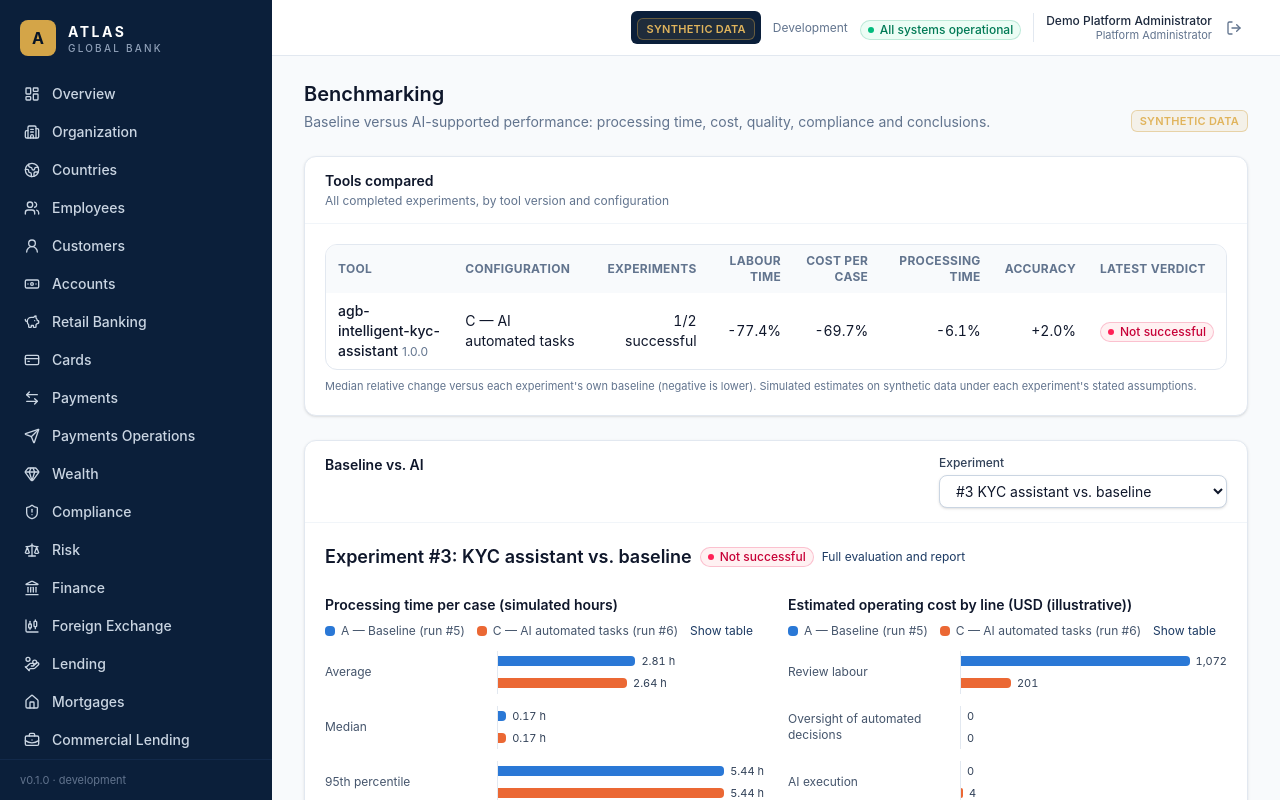
Test: Benchmarking › compares tools and charts baseline against AI with a table view
The image size is (1280, 800).
Expected: the text "1/2 successful" is shown, x1=594 y1=293 x2=709 y2=369
Expected: the text "-77.4%" is shown, x1=709 y1=293 x2=793 y2=369
Hover over the element named "Average, A — Baseline (run #5): 2.81 h": (587, 660) x1=498 y1=654 x2=675 y2=668
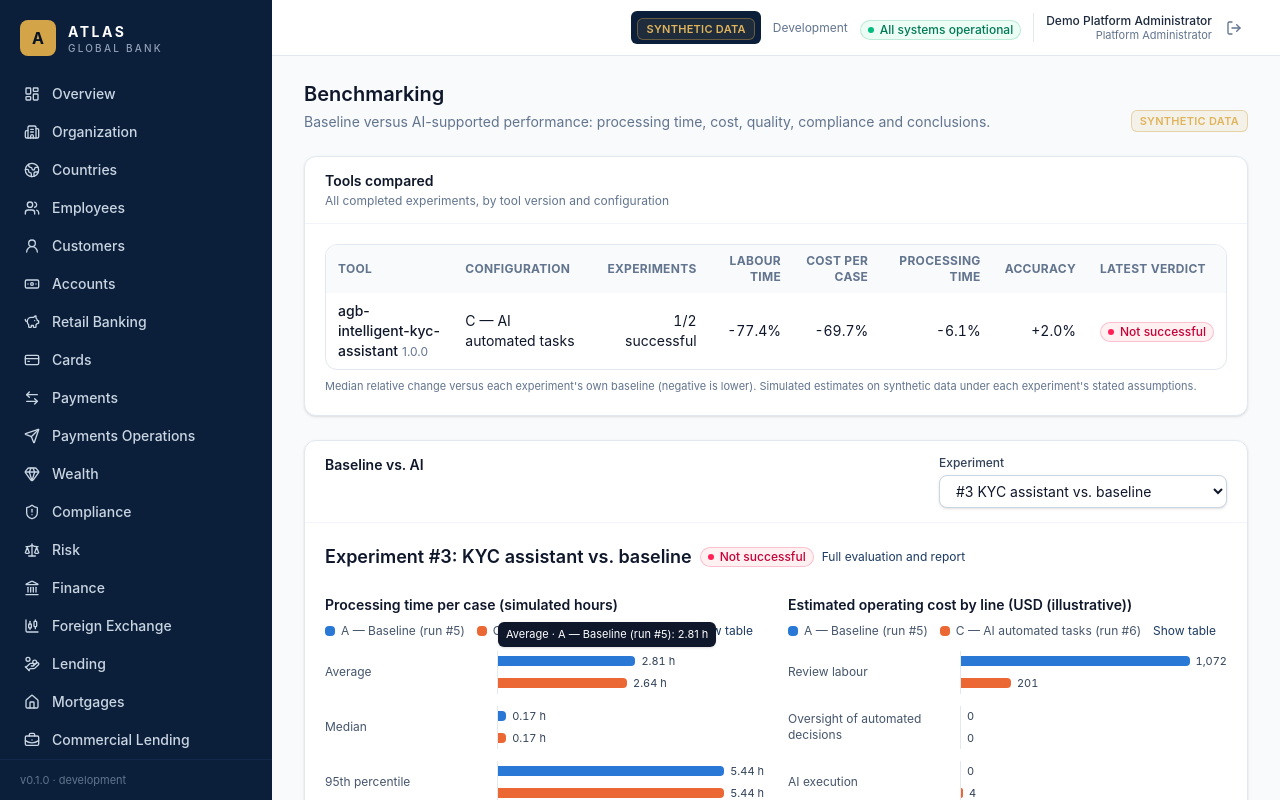
Now the tooltip reads "Average · A — Baseline (run #5): 2.81 h", box x1=498 y1=622 x2=716 y2=646
Click the 1st button "Show table": (722, 630) x1=690 y1=622 x2=753 y2=638
(page scrolled)
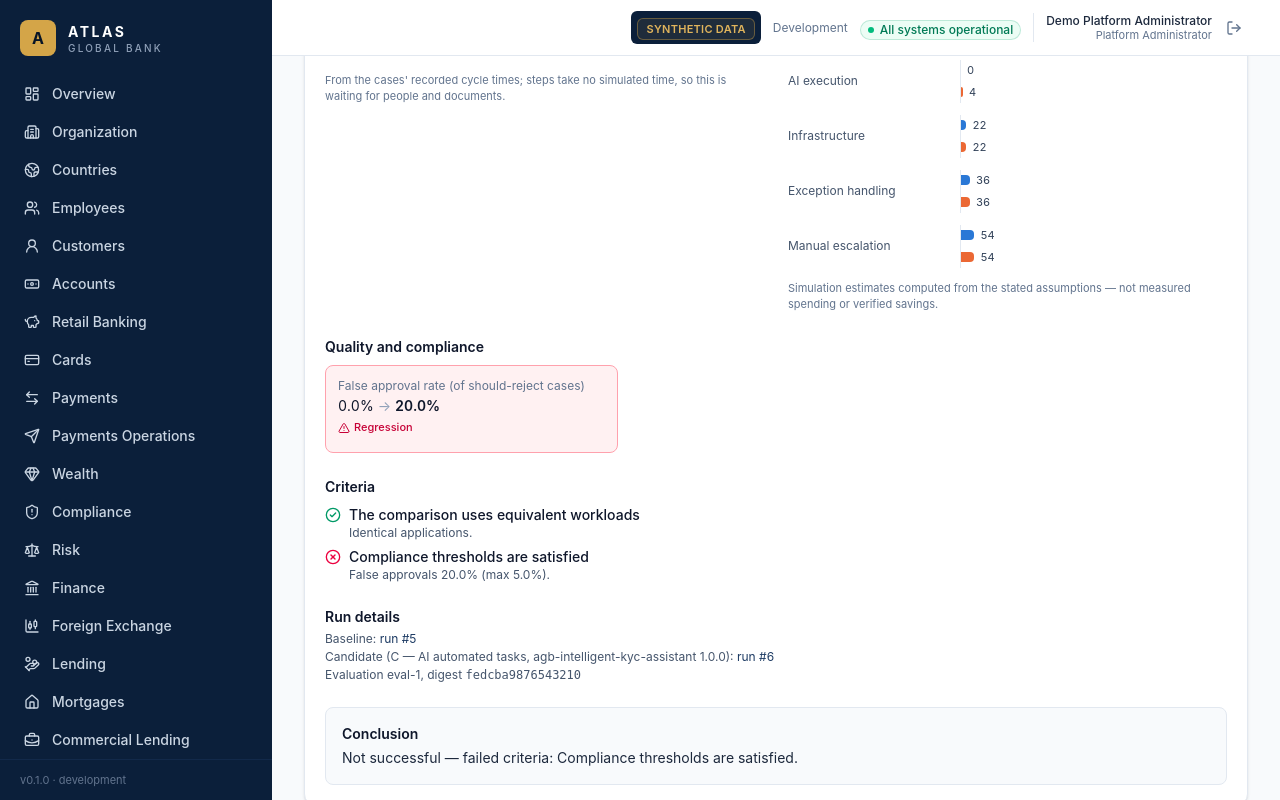
Expected: the element "Estimated operating cost" is shown, x1=788 y1=56 x2=1227 y2=312
Now the text "False approval rate (of should-reject cases)" is shown, box x1=338 y1=378 x2=605 y2=394
Now the text "Regression" is shown, box x1=338 y1=419 x2=413 y2=436
